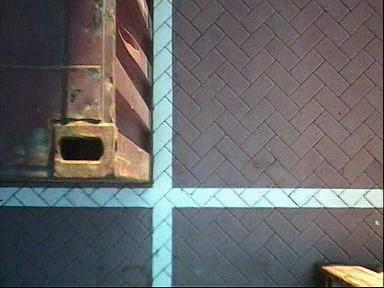groundmarker_2: (182, 152, 229, 214)
